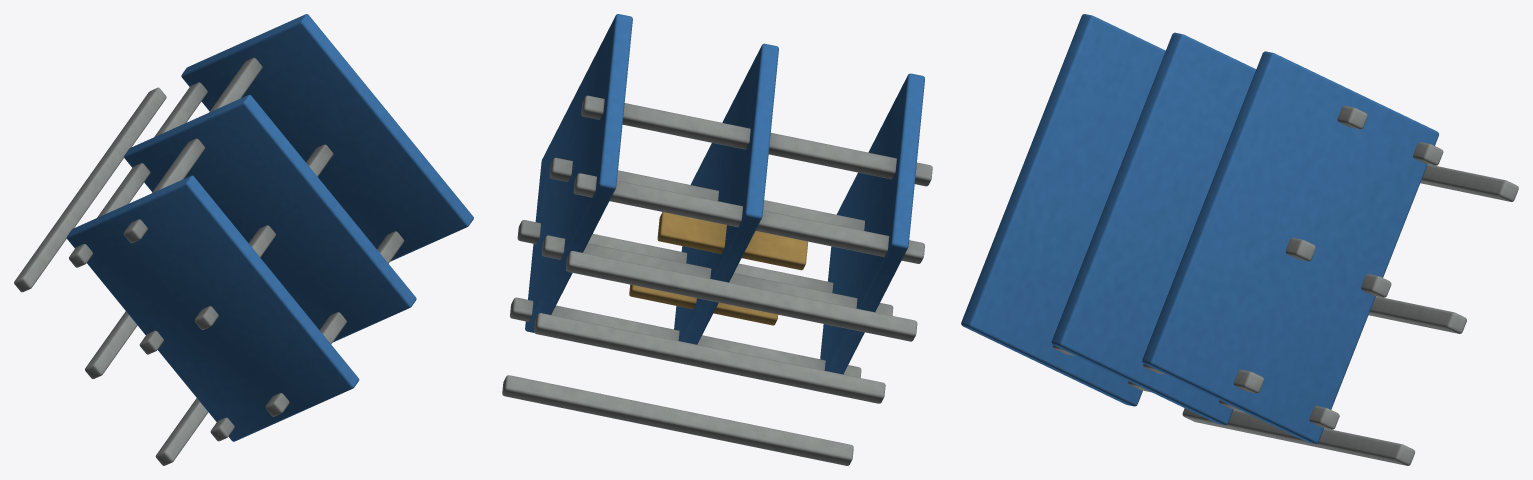
3 renders of one model, left to right at view 1: azimuth 30°, elevation 25°; view 2: azimuth 150°, elevation 25°; view 3: azimuth 270°, elevation 25°, orthographic. The views are drawn at different scales.
Parts seen in each view (by area): view 1: Open matrix horizontal beam; view 2: Open matrix horizontal beam; view 3: Open matrix horizontal beam.
Boxes of the visible parts, x1=… form: Open matrix horizontal beam: x1=14, y1=14, x2=473, y2=465; Open matrix horizontal beam: x1=502, y1=14, x2=932, y2=465; Open matrix horizontal beam: x1=961, y1=14, x2=1518, y2=465.
Size of the model in its own units: 1.42 by 1.32 by 1.41.
Materials: 1 (1 with a texture image).
